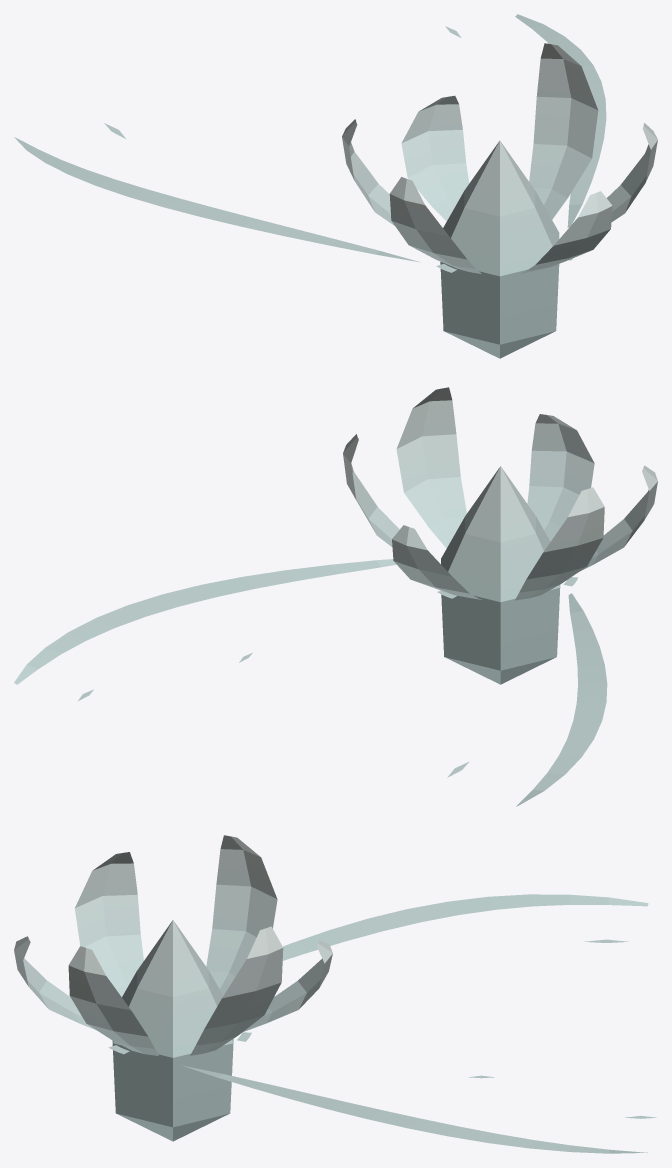
Rendered from water-effects.glb.
3 renders of one model, top to bottom at view 1: azimuth 30°, elevation 25°; view 2: azimuth 150°, elevation 25°; view 3: azimuth 270°, elevation 25°, orthographic.
Parts seen in each view (by area): view 1: splash, droplet, wake; view 2: splash, droplet, wake; view 3: splash, droplet, wake.
Part boxes in pixels (x1,y1,x2,y2): splash: (342,43,657,273); droplet: (440,140,559,358); wake: (14,14,606,262); splash: (343,387,657,600); droplet: (441,466,560,684); wake: (14,559,607,806); splash: (14,835,332,1055); droplet: (112,920,233,1141); wake: (182,894,656,1153).
Bounding box in the file's own units: 2.49 × 1.18 × 2.63.
